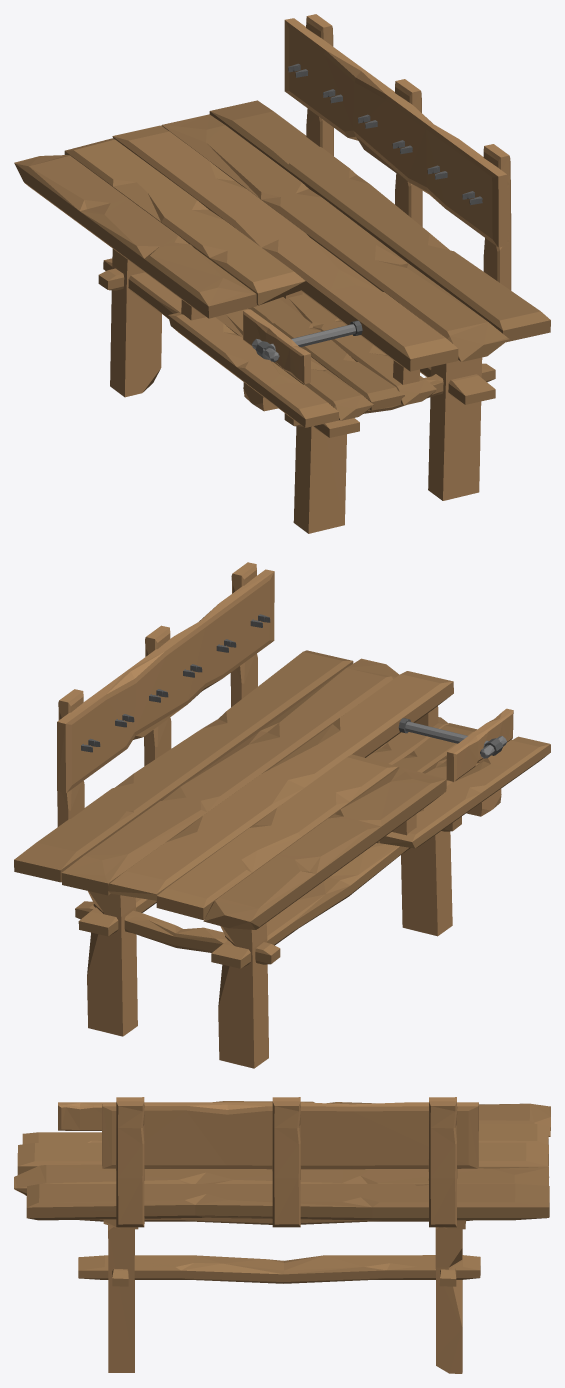
Rendered from SFFA_Blacksmith_Table.fbx.
3 renders of one model, top to bottom at view 1: azimuth 30°, elevation 25°; view 2: azimuth 150°, elevation 25°; view 3: azimuth 270°, elevation 25°, orthographic. The views are drawn at different scales.
Visible parts, largest first — view 1: SFFA_Blacksmith_Table; view 2: SFFA_Blacksmith_Table; view 3: SFFA_Blacksmith_Table.
Part boxes in pixels (x1,y1,x2,y2): SFFA_Blacksmith_Table: (14,14,550,533); SFFA_Blacksmith_Table: (14,562,550,1068); SFFA_Blacksmith_Table: (14,1097,550,1373).
Size of the model in its own units: 113 by 136 by 230.
